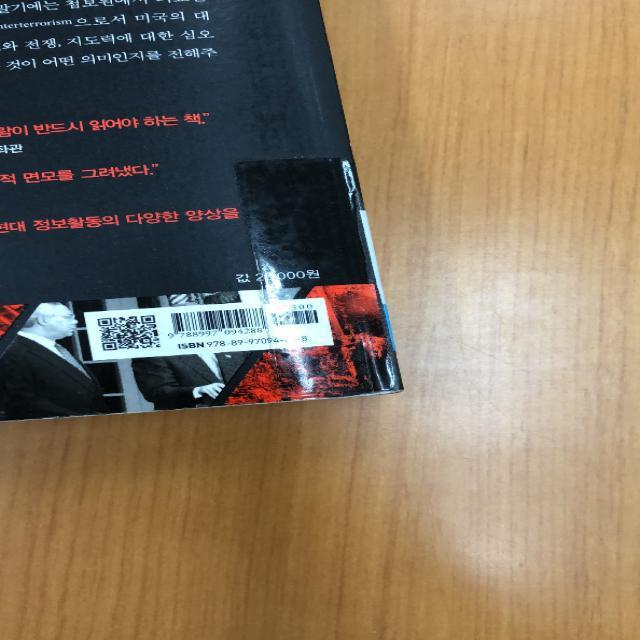Wornout: (276, 388, 406, 403), (128, 402, 276, 414), (0, 411, 128, 423)
